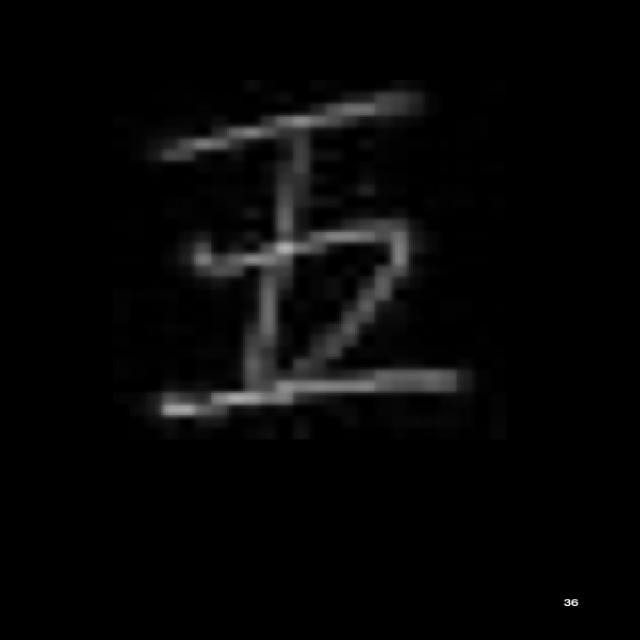5 -five-: (126, 89, 482, 429)
